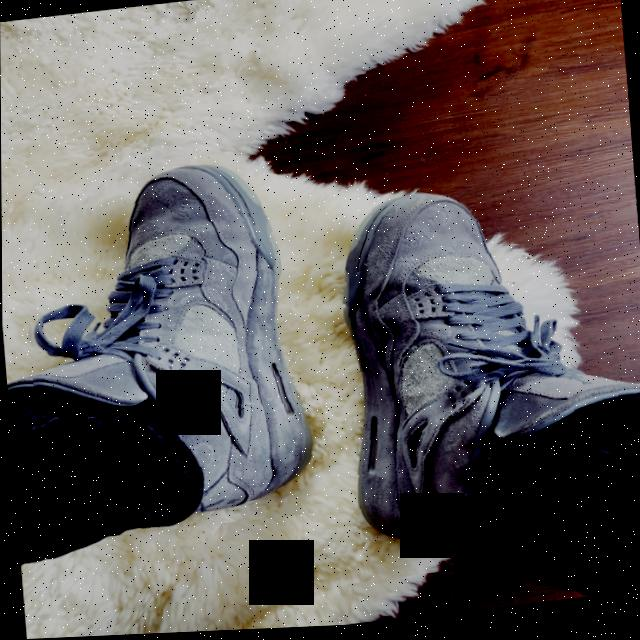shoe: (300, 161, 640, 590), (8, 144, 340, 546)
